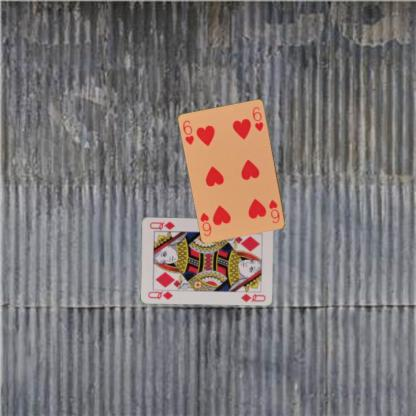6h: (180, 118, 196, 146), (266, 197, 281, 225)
Qd: (146, 287, 176, 301)
